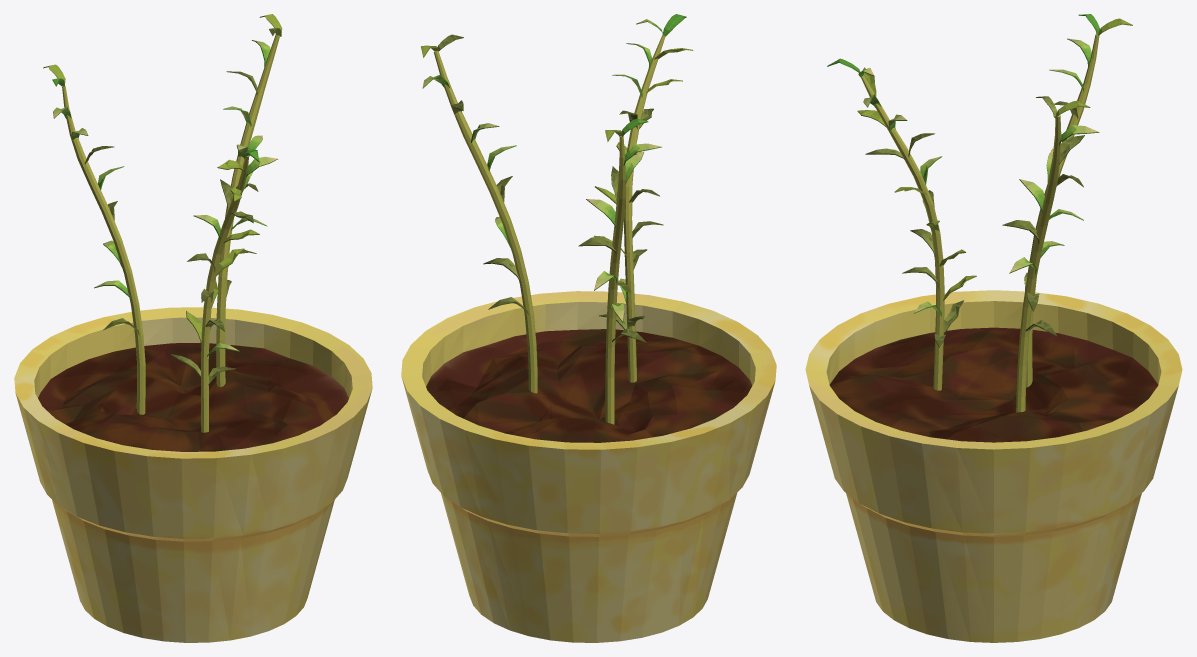
Rendered from Lilium_Horrible_End.glb.
The picture shows the model from 3 angles, left to right: view 1: azimuth 30°, elevation 25°; view 2: azimuth 150°, elevation 25°; view 3: azimuth 270°, elevation 25°; orthographic projection. The views are drawn at different scales.
Visible parts, largest first — view 1: Pot, Plane.021; view 2: Pot, Plane.021; view 3: Pot, Plane.021.
Part boxes in pixels (x1,y1,x2,y2): Pot: (14,307,372,642); Plane.021: (43,14,282,432); Pot: (401,291,776,642); Plane.021: (421,14,693,424); Pot: (805,290,1182,642); Plane.021: (827,14,1132,412).
Size of the model in its own units: 2.05 by 3.29 by 2.05.
Materials: 6 (5 with a texture image).
